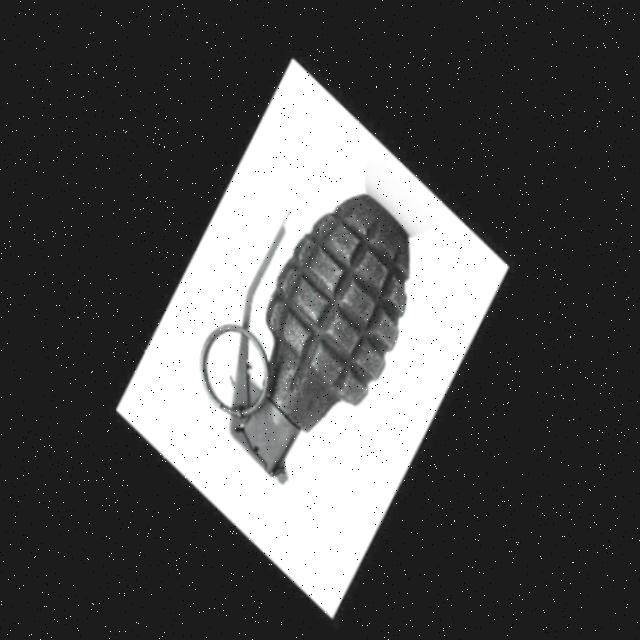grenade: (156, 171, 474, 507)
